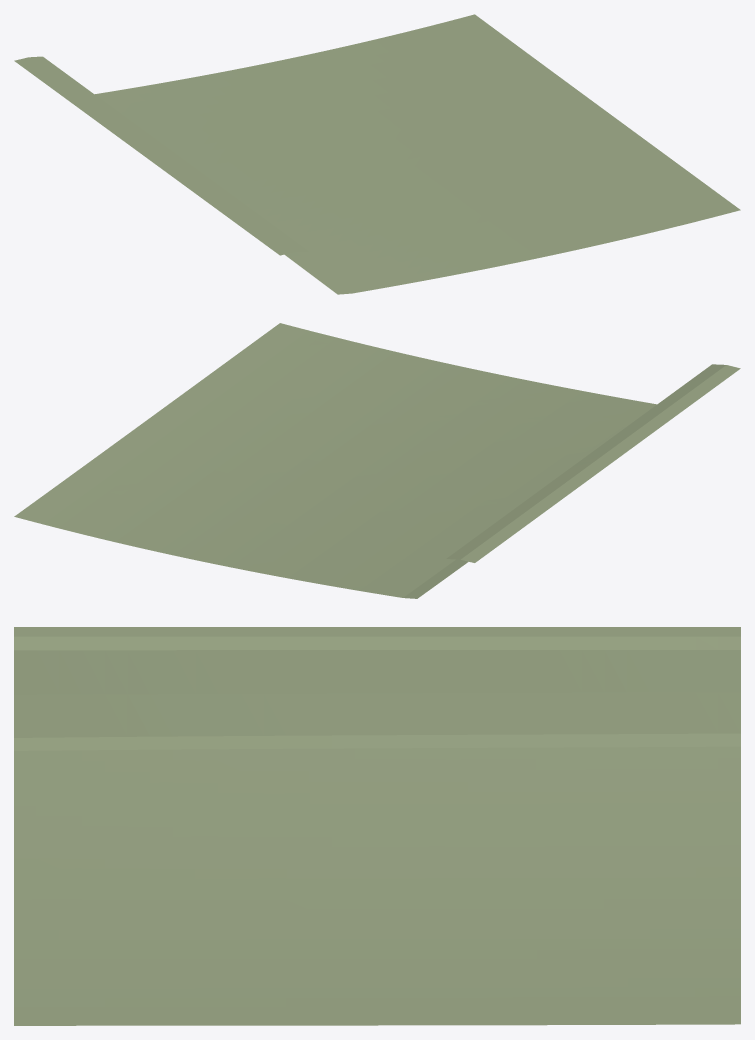
Rendered from valley-8-5.glb.
3 views of the same model, one above another, from view 1: azimuth 30°, elevation 25°; view 2: azimuth 150°, elevation 25°; view 3: azimuth 270°, elevation 25° (orthographic). The views are drawn at different scales.
Parts seen in each view (by area): view 1: valley-8-5; view 2: valley-8-5; view 3: valley-8-5.
Boxes of the visible parts, x1,y1,x2,y2 form: valley-8-5: [14, 14, 740, 294]; valley-8-5: [14, 323, 740, 598]; valley-8-5: [14, 627, 740, 1025].
Bounding box in the file's own units: 256 × 35.98 × 256.
